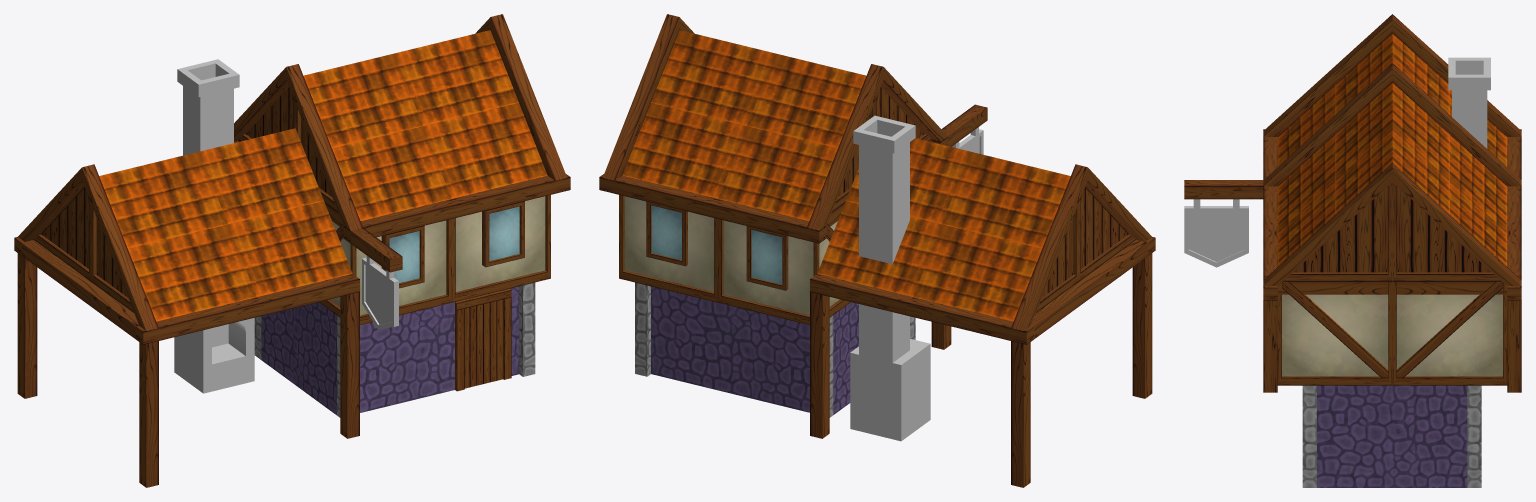
Rendered from Medieval_Blacksmith.fbx.
3 renders of one model, left to right at view 1: azimuth 30°, elevation 25°; view 2: azimuth 150°, elevation 25°; view 3: azimuth 270°, elevation 25°, orthographic.
Parts seen in each view (by area): view 1: Medieval_House_05.004; view 2: Medieval_House_05.004; view 3: Medieval_House_05.004.
Part boxes in pixels (left/top/right/bottom): Medieval_House_05.004: left=14, top=14, right=570, bottom=487; Medieval_House_05.004: left=599, top=14, right=1155, bottom=487; Medieval_House_05.004: left=1184, top=14, right=1521, bottom=487.
Bounding box in the file's own units: 1098 × 796 × 749.
